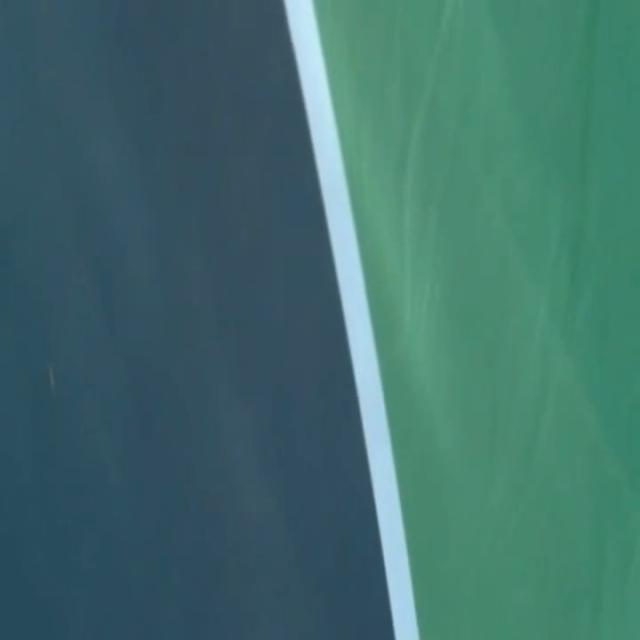right: (284, 0, 419, 639)
